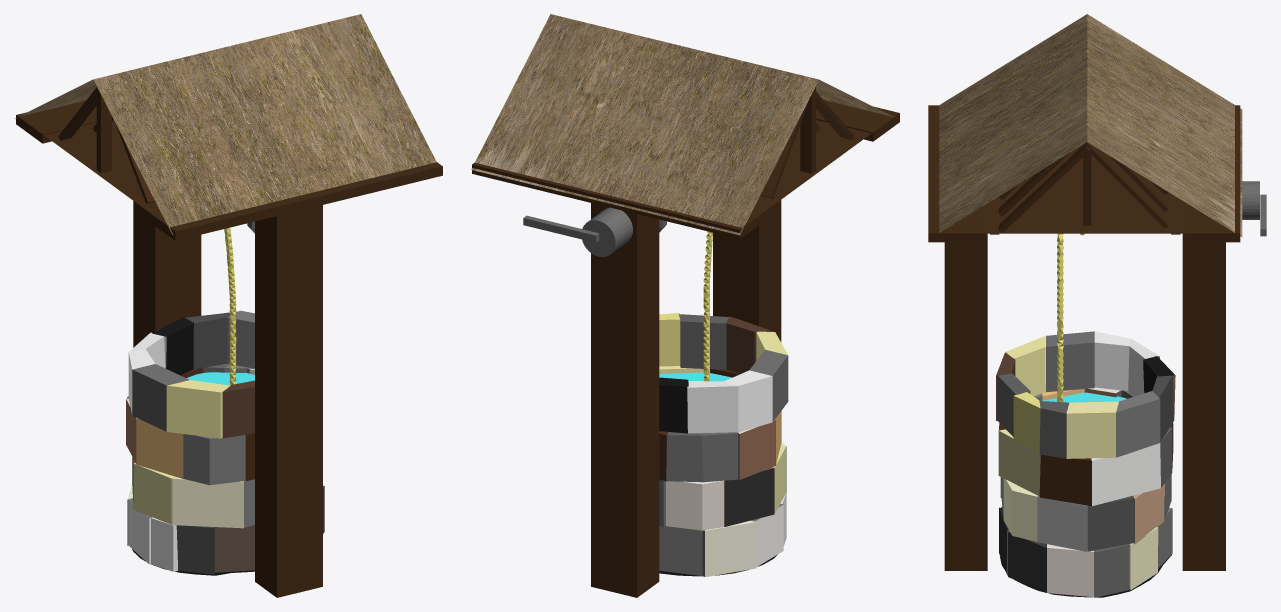
File: well.fbx
The picture shows the model from 3 angles, left to right: view 1: azimuth 30°, elevation 25°; view 2: azimuth 150°, elevation 25°; view 3: azimuth 270°, elevation 25°; orthographic projection. The views are drawn at different scales.
Visible parts, largest first — view 1: Cube.054; view 2: Cube.054; view 3: Cube.054.
Boxes of the visible parts, <box> form: Cube.054: <box>15,14,442,597</box>; Cube.054: <box>471,14,899,597</box>; Cube.054: <box>928,14,1266,597</box>.
Bounding box in the file's own units: 1166 × 2045 × 1302.
3 materials, 3 textured.
